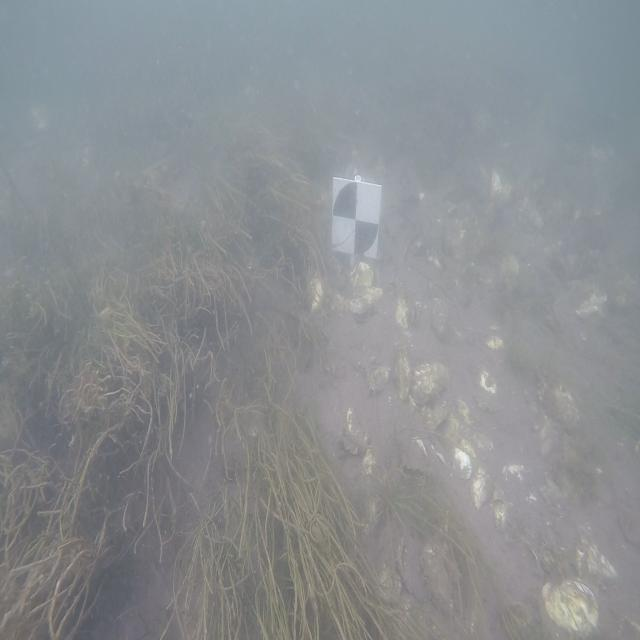Oyster- Indeterminate: (325, 259, 396, 331), (340, 408, 372, 457), (473, 369, 501, 415), (394, 295, 420, 330), (362, 447, 386, 484), (351, 262, 374, 294), (308, 278, 325, 316), (484, 332, 506, 355)
Oyster-Closed: (540, 577, 600, 639), (406, 361, 454, 408), (418, 399, 451, 433), (395, 349, 411, 400), (452, 444, 474, 479), (453, 397, 477, 427), (471, 429, 495, 455), (471, 476, 486, 509), (445, 413, 460, 444), (493, 500, 506, 531), (503, 464, 526, 481), (409, 396, 416, 407)
Oyster-Open: (389, 521, 461, 622), (397, 429, 429, 474), (363, 362, 397, 394)
